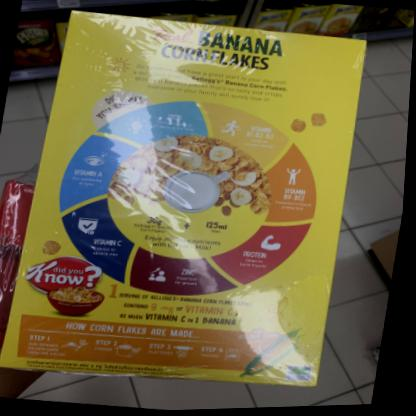cereal box: (0, 0, 398, 412)
